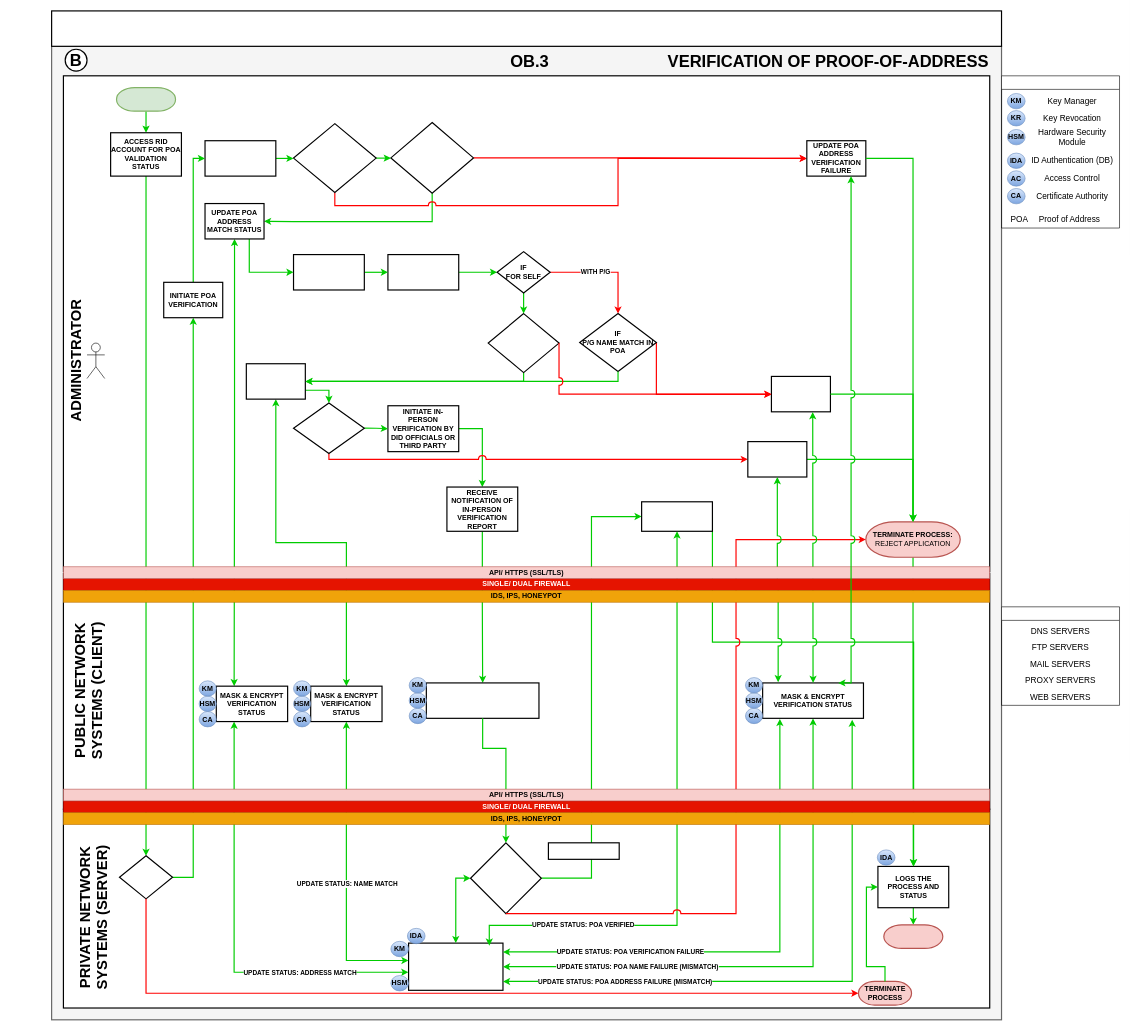
The diagram is 1130 pixels wide and 1030 high, and some of its shapes have lost their labels. The box of each missing label's shape, as (x1, y1, x2, y2) in pixels:
ADMIN: (86, 342, 105, 378)
CHECK ENROLMENT TYPE: (387, 254, 459, 290)
END: (883, 924, 943, 949)
IF ADDRESS AND NAME MATCH: (293, 402, 365, 454)
IF ADDRESS NOT A PO-BOX OR NON-RESIDENTIAL: (390, 122, 474, 194)
IF APPLICANT NAME MATCH IN POA: (487, 313, 559, 373)
IF IN-PERSON ADDRESS VERIFICATION SUCCESS: (470, 842, 542, 914)
IF POA VALIDATED: (119, 855, 173, 899)
IF POSTCODE IN COUNTRY OF APPLICATION: (293, 123, 376, 193)
LEGEND: (1001, 75, 1120, 228)
MASK & ENCRYPT APPLICANT DETAILS FOR IN-PERSON VERIFICATION: (425, 682, 539, 719)
NOTIFICATION GENERATOR: (548, 842, 620, 860)
PUBLIC NETWORK: (1001, 606, 1120, 705)
Purpose: This SOP d etails the steps for verifying the user's address proof.: (51, 10, 1002, 47)
START (ONLINE): (116, 87, 176, 112)
STORE STATUS IN RID ACCOUNT: (408, 942, 503, 991)
UPDATE POA NAME MATCH STATUS: (245, 363, 306, 399)
UPDATE POA NAME VERIFICATION FAILURE: (771, 376, 831, 412)
UPDATE POA VERIFICATION FAILURE: (747, 441, 807, 477)
UPDATE POA VERIFIED STATUS: (641, 501, 713, 532)
VERIFY ADDRESS: (204, 140, 276, 176)
VERIFY NAME ON POA: (293, 254, 365, 290)
